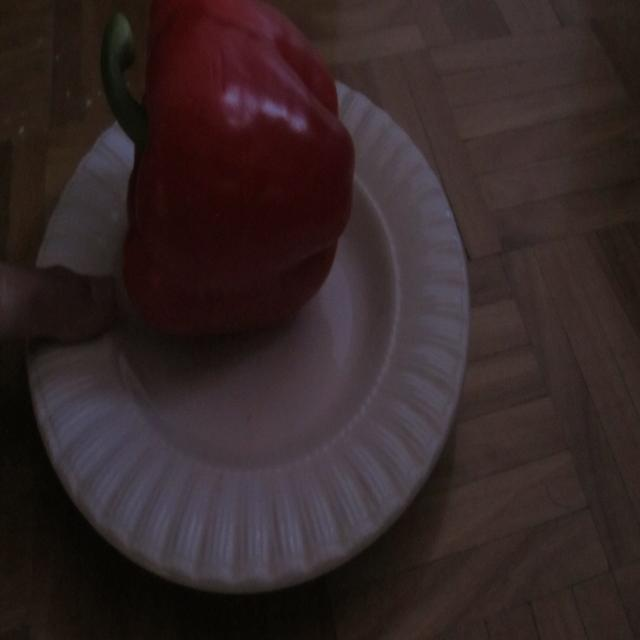Pepper: (99, 1, 356, 341)
